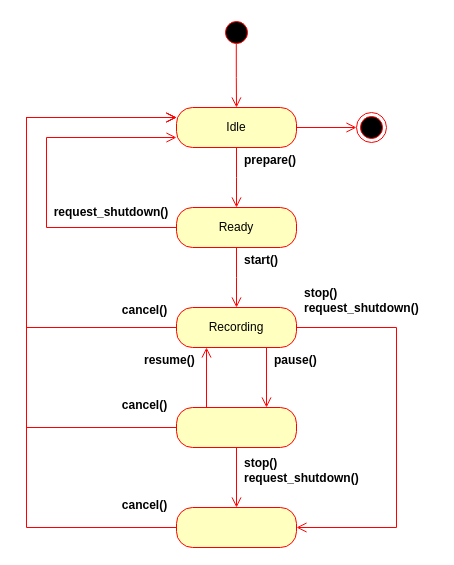
Some shapes in this 454 by 565 pixel diagram are drawn without their labels. Each missing label, with the centre of its shape:
Finalizing: the point at 236,527
Paused: the point at 236,427
